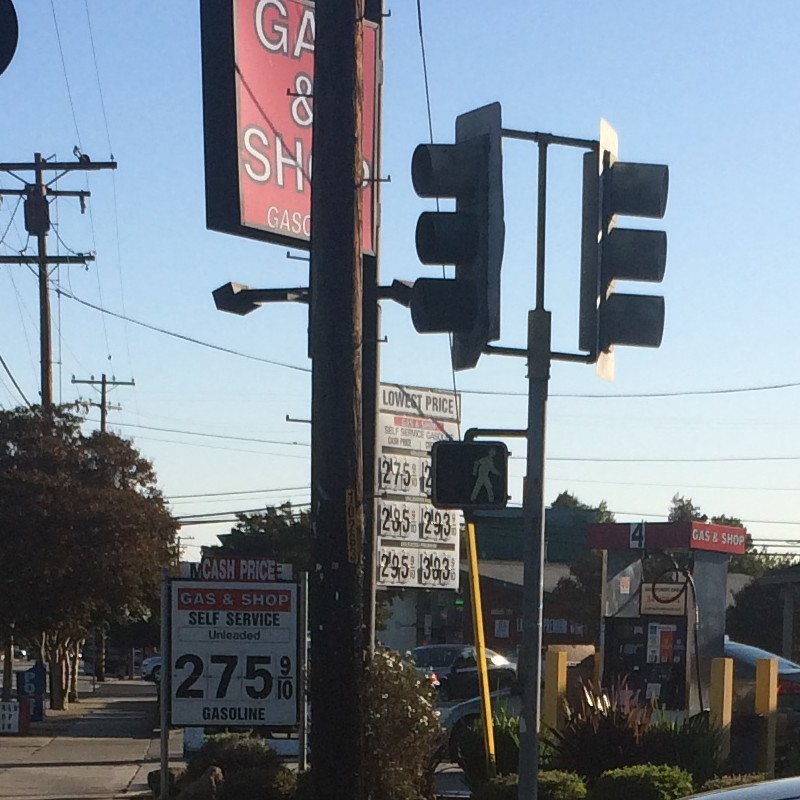go: (429, 438, 509, 509)
